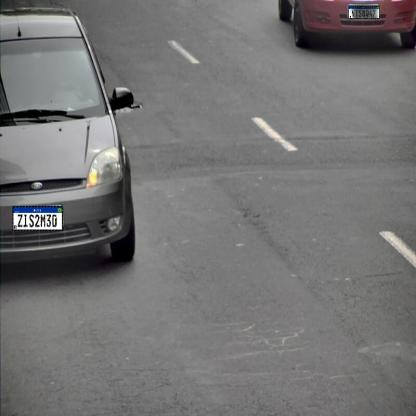PlacaM: (12, 206, 63, 231), (348, 6, 380, 18)
